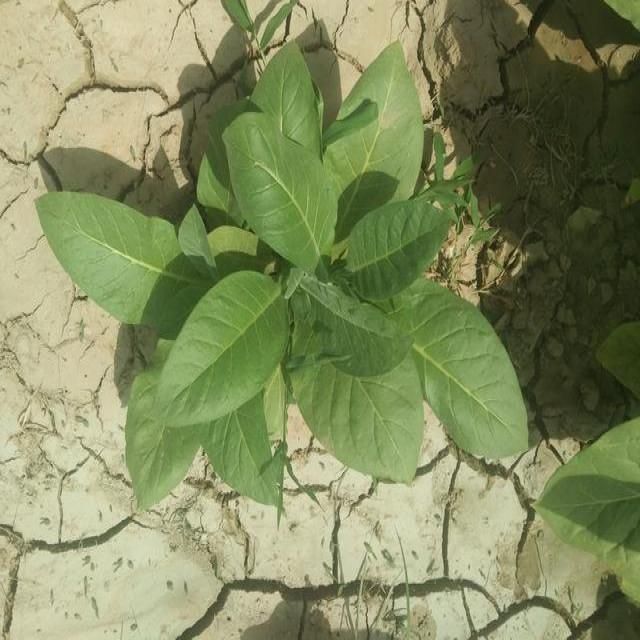crop: (42, 187, 278, 500), (279, 248, 527, 468), (234, 64, 452, 265)
